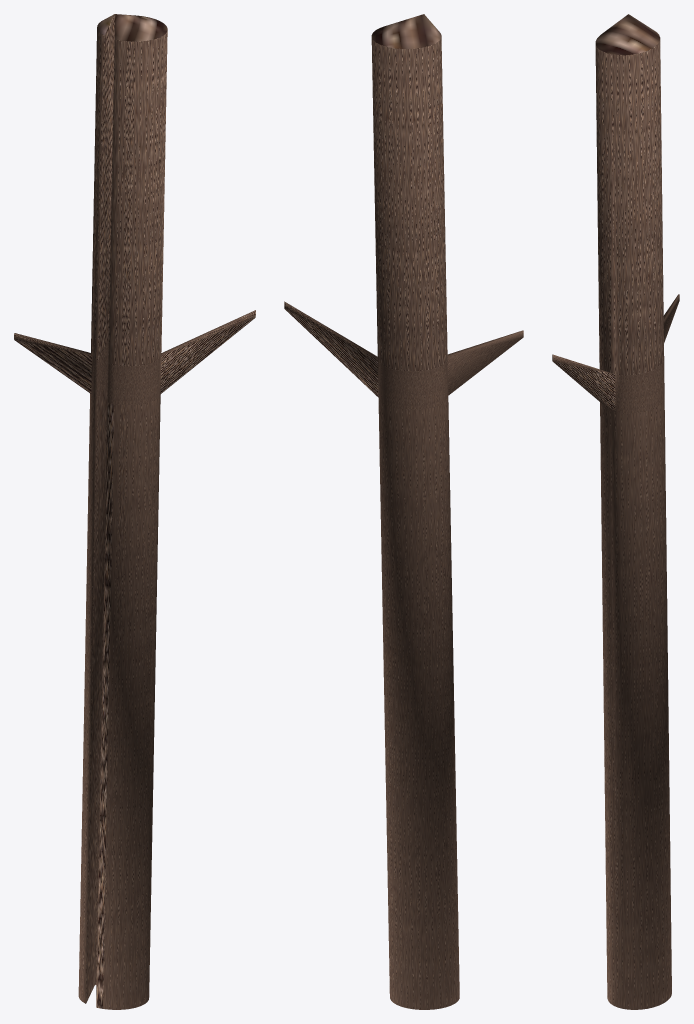
File: TreeTrunk.obj
3 views of the same model, side by side, from view 1: azimuth 30°, elevation 25°; view 2: azimuth 210°, elevation 25°; view 3: azimuth 270°, elevation 25° (orthographic).
Parts seen in each view (by area): view 1: Icosphere.004; view 2: Icosphere.004; view 3: Icosphere.004.
Part boxes in pixels (bbox=[...]): Icosphere.004: bbox=[14, 14, 255, 1009]; Icosphere.004: bbox=[284, 14, 523, 1009]; Icosphere.004: bbox=[552, 14, 679, 1009].
Size of the model in its own units: 0.0574 by 0.3038 by 0.0357.
